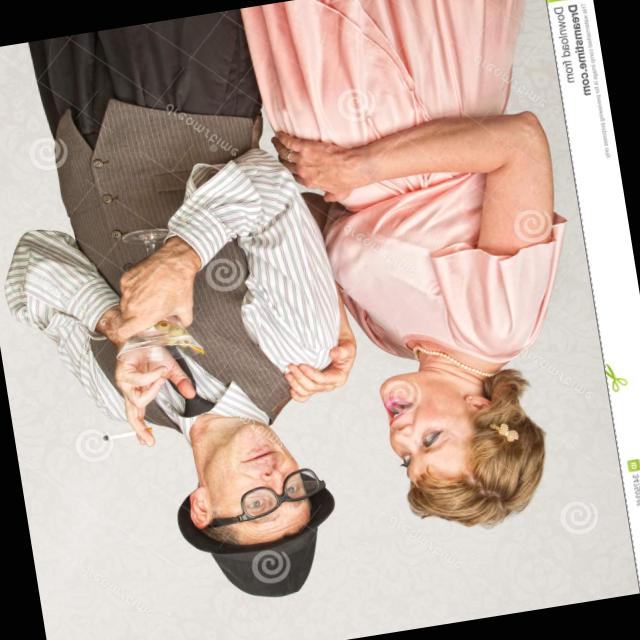cigarette: (82, 414, 154, 444)
